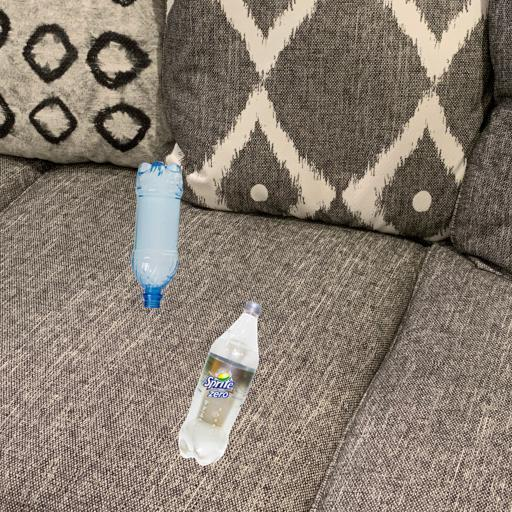bottle: (173, 362, 285, 404), (0, 221, 28, 247)
